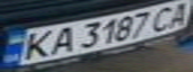1: (96, 16, 121, 45)
3: (75, 19, 103, 49)
7: (130, 9, 157, 38)
8: (115, 12, 139, 43)
A: (42, 25, 78, 56), (163, 0, 193, 29)
C: (145, 3, 184, 33)
K: (12, 28, 60, 61)
